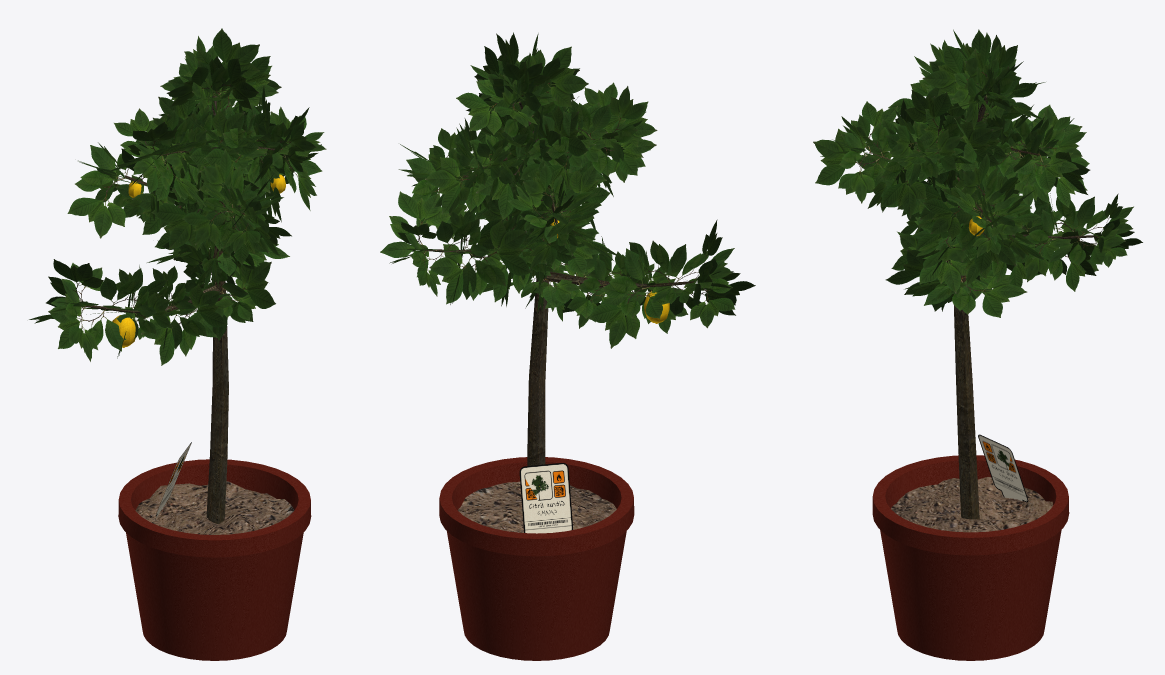
File: lemontree.fbx
3 views of the same model, side by side, from view 1: azimuth 30°, elevation 25°; view 2: azimuth 150°, elevation 25°; view 3: azimuth 270°, elevation 25° (orthographic). The views are drawn at different scales.
Visible parts, largest first — view 1: Lemontree; view 2: Lemontree; view 3: Lemontree.
Boxes of the visible parts, bbox=[...] form: Lemontree: bbox=[29, 28, 326, 660]; Lemontree: bbox=[380, 32, 755, 660]; Lemontree: bbox=[813, 29, 1142, 660].
Bounding box in the file's own units: 38.79 × 69.63 × 36.09.
Materials: 1 (1 with a texture image).
